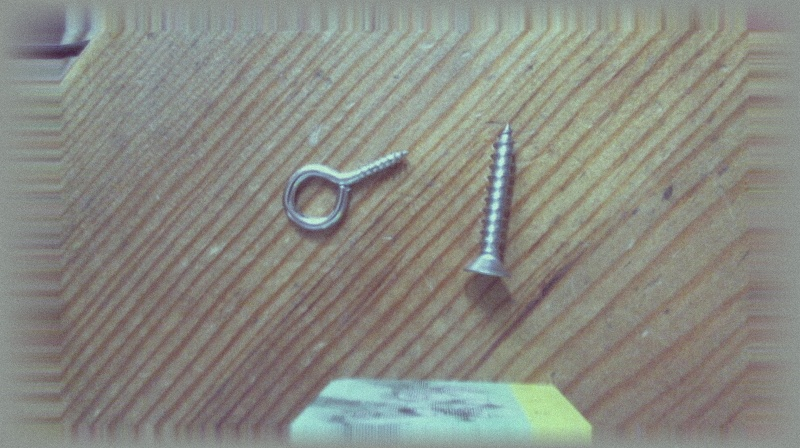O001: (279, 145, 416, 237)
S001: (461, 121, 525, 288)
